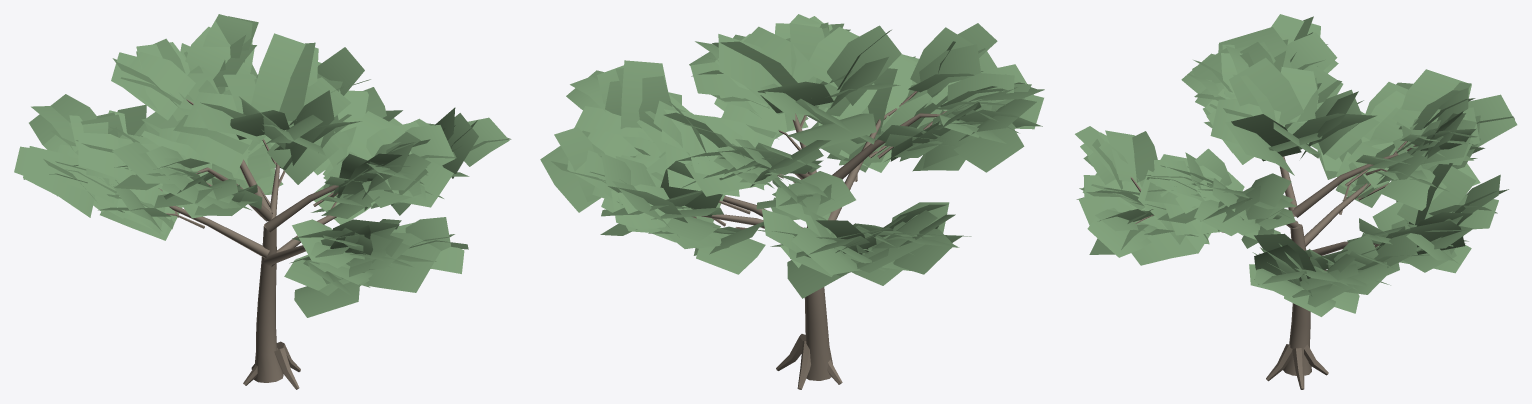
Rendered from CTCC_ENV_CourtyardTree_B.fbx.
3 renders of one model, left to right at view 1: azimuth 30°, elevation 25°; view 2: azimuth 150°, elevation 25°; view 3: azimuth 270°, elevation 25°, orthographic. The views are drawn at different scales.
Parts seen in each view (by area): view 1: CTCC_ENV_CourtyardTree_B_LOD0; view 2: CTCC_ENV_CourtyardTree_B_LOD0; view 3: CTCC_ENV_CourtyardTree_B_LOD0.
Part boxes in pixels (<box>): CTCC_ENV_CourtyardTree_B_LOD0: <box>14,14,511,389</box>; CTCC_ENV_CourtyardTree_B_LOD0: <box>540,14,1044,389</box>; CTCC_ENV_CourtyardTree_B_LOD0: <box>1075,14,1517,389</box>.
Size of what is drawn, in the model's own units: 6.67 by 4.71 by 6.28.
